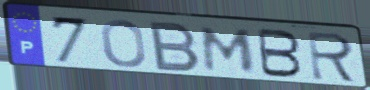7: (46, 14, 93, 64)
B: (149, 20, 203, 73), (256, 27, 305, 80)
M: (200, 25, 257, 74)
O: (99, 18, 149, 69)
R: (305, 30, 360, 85)
